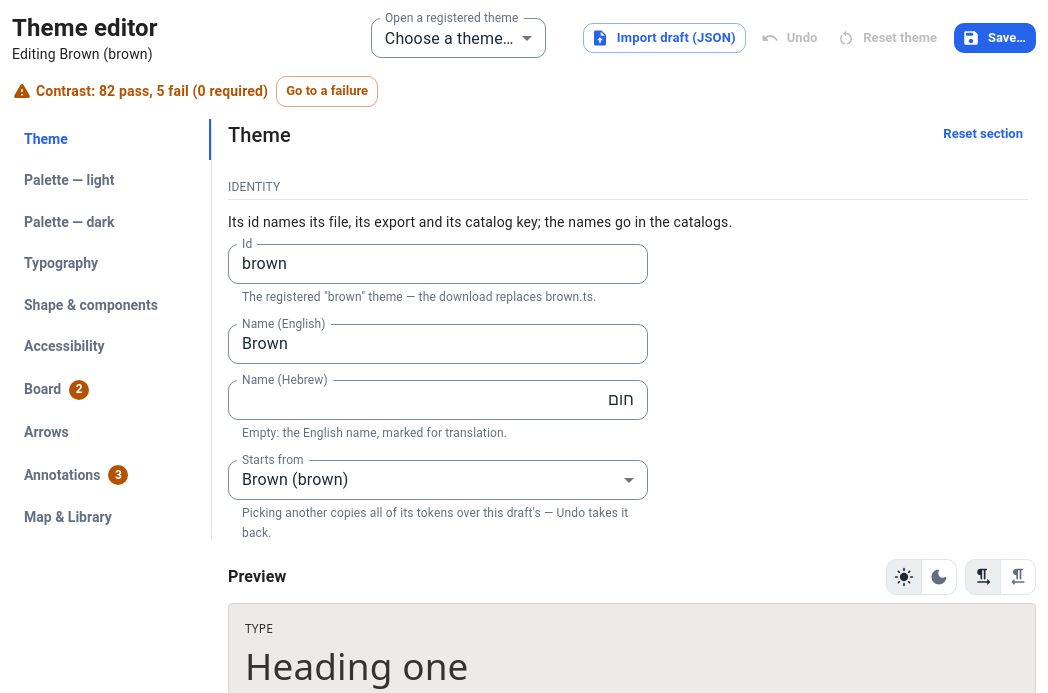
Test: the theme editor › moves between the sections with the up and down arrows
The image size is (1048, 693).
Click the tab "Theme".
click(112, 140)  # box x1=12 y1=119 x2=211 y2=160
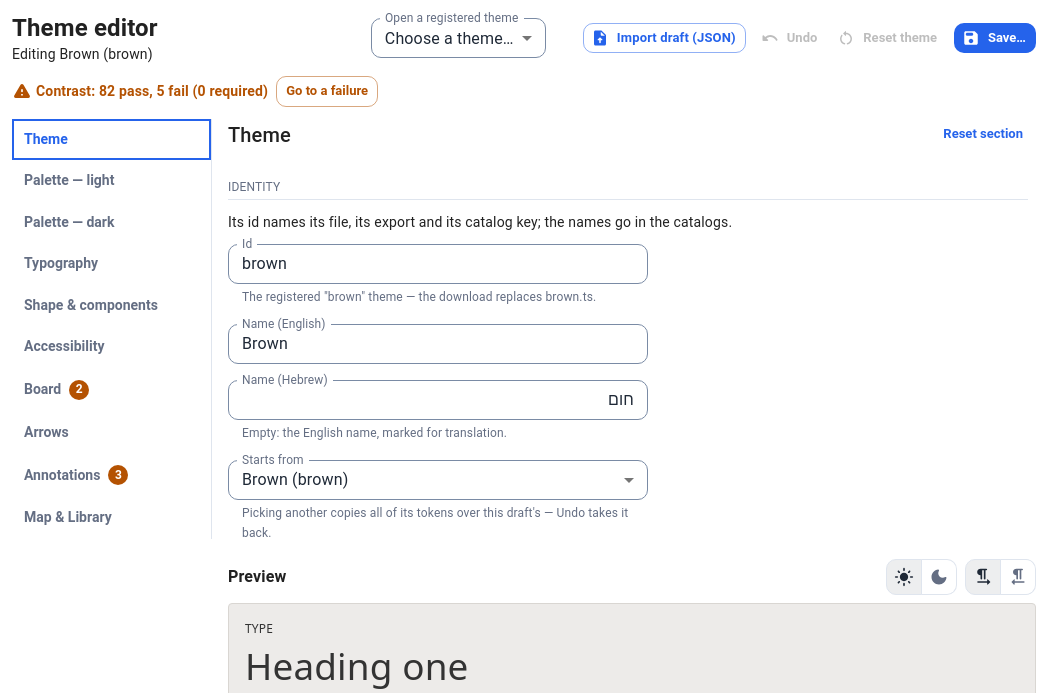
Press Arrowdown
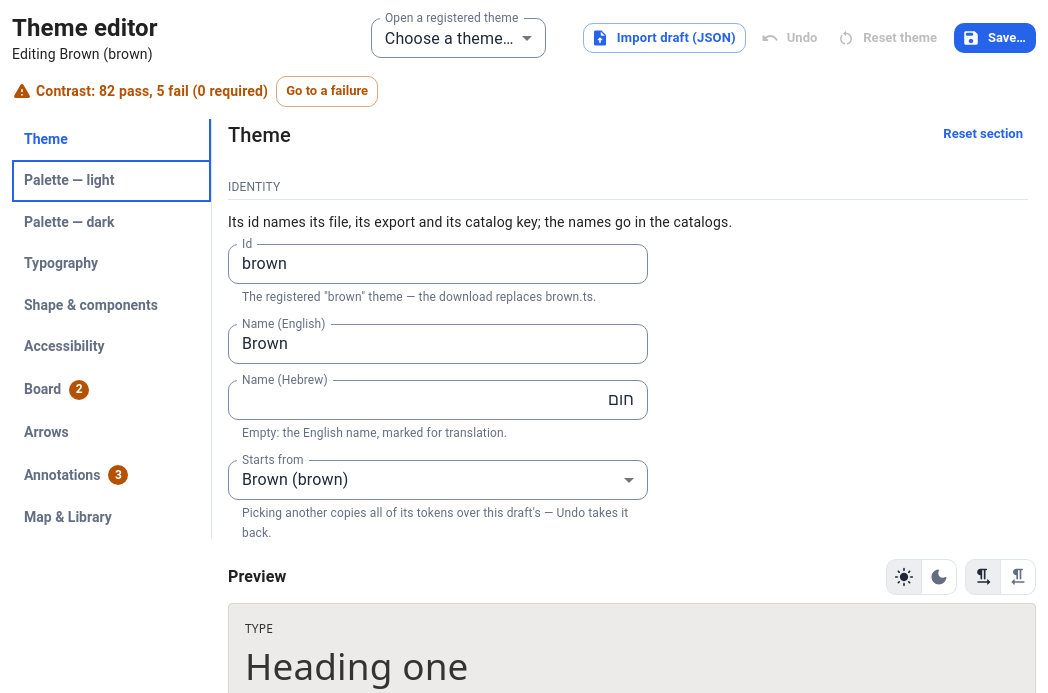
Press Enter
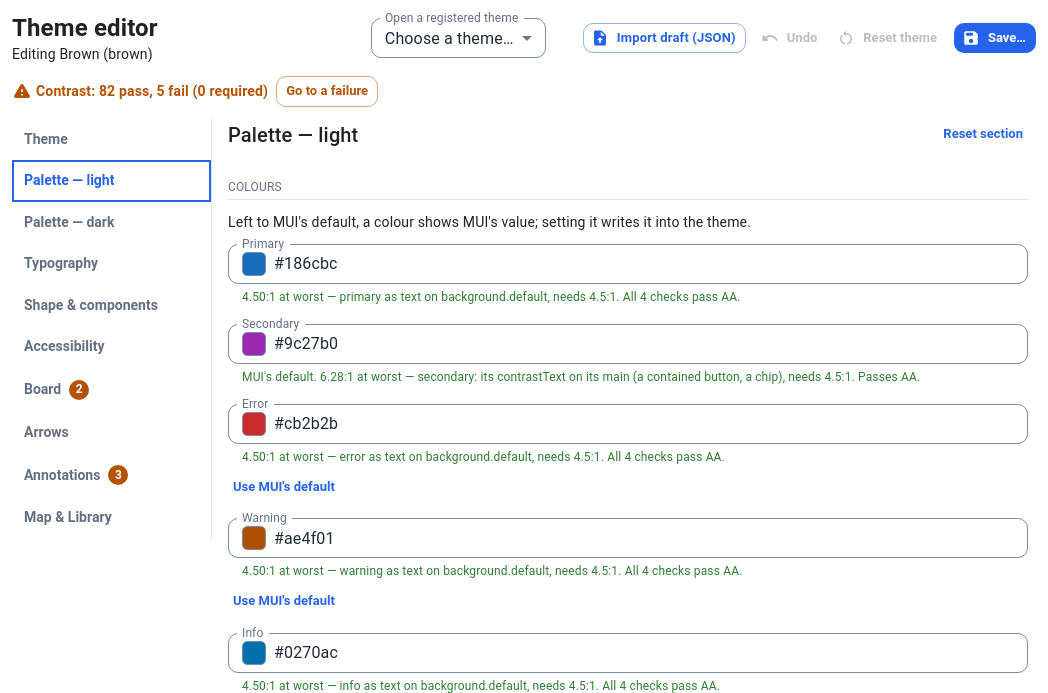
Expected: the heading "Palette — light" is shown, x1=228 y1=123 x2=358 y2=147
